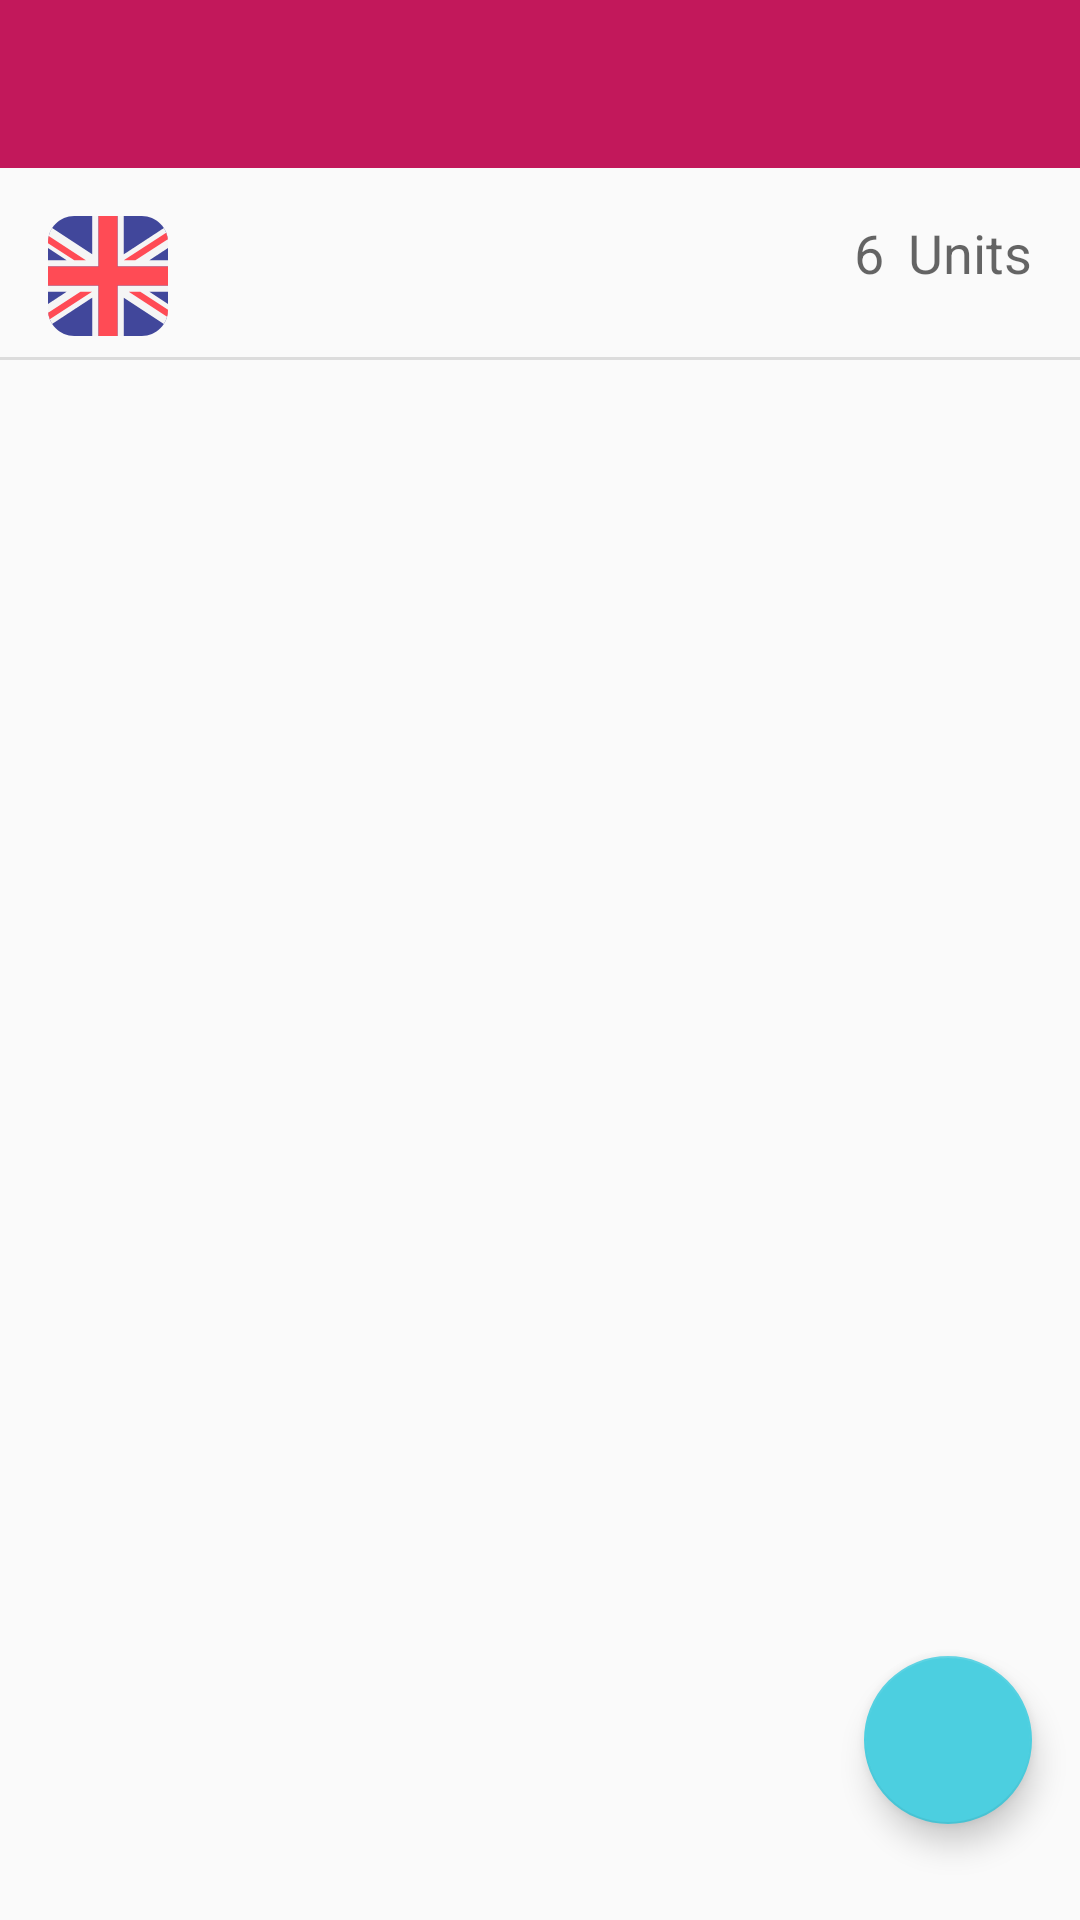

Where to tap for icons on this 1080 × 1920 app screen, as (x,y):
flag united kingdom: (108,276)
